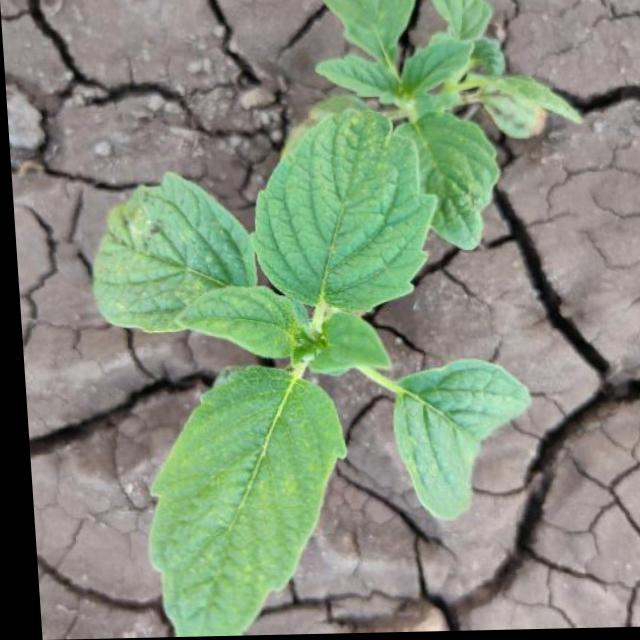crop: (51, 101, 561, 639), (299, 0, 574, 246)
